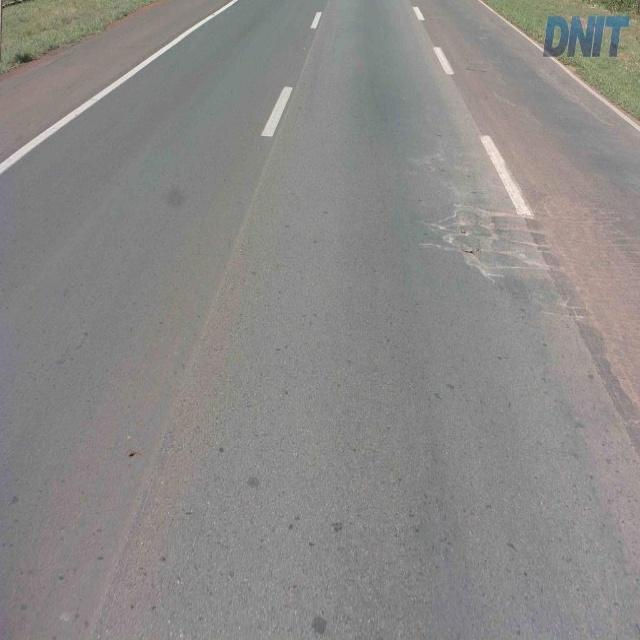pothole: (441, 189, 522, 288)
